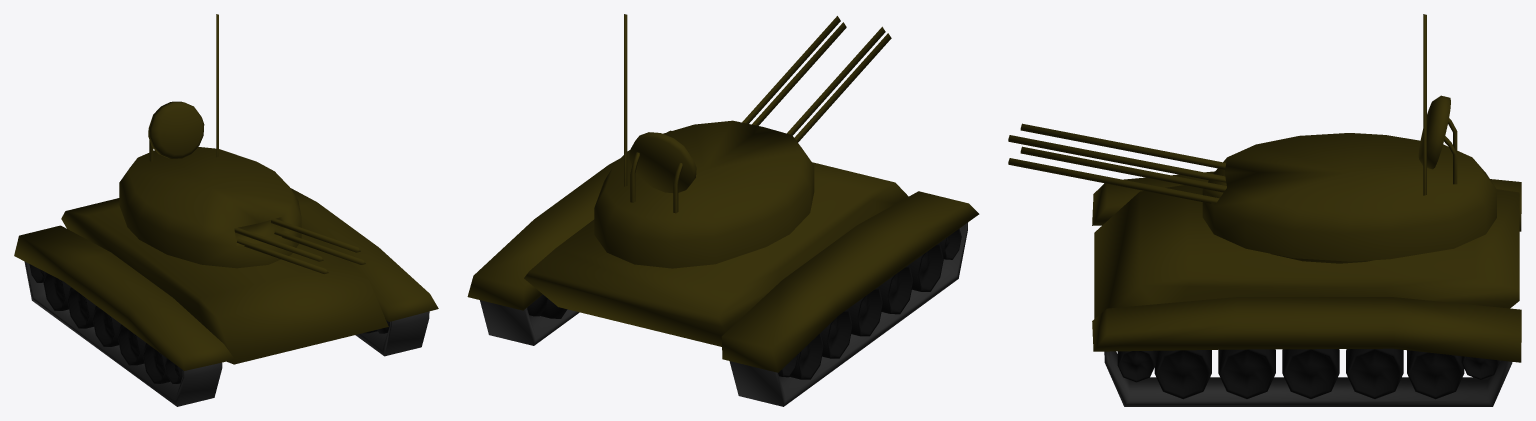
Rendered from shilka.fbx.
3 views of the same model, side by side, from view 1: azimuth 30°, elevation 25°; view 2: azimuth 150°, elevation 25°; view 3: azimuth 270°, elevation 25° (orthographic). The views are drawn at different scales.
Visible parts, largest first — view 1: shilka_body, shilka_head; view 2: shilka_body, shilka_head; view 3: shilka_body, shilka_head.
Boxes of the visible parts, x1,y1,x2,y2 form: shilka_body: [14, 188, 438, 406]; shilka_head: [119, 14, 365, 273]; shilka_body: [467, 130, 979, 406]; shilka_head: [594, 14, 891, 268]; shilka_body: [1092, 171, 1521, 406]; shilka_head: [1008, 14, 1496, 263].
Size of the model in its own units: 1000 by 987 by 1355.
